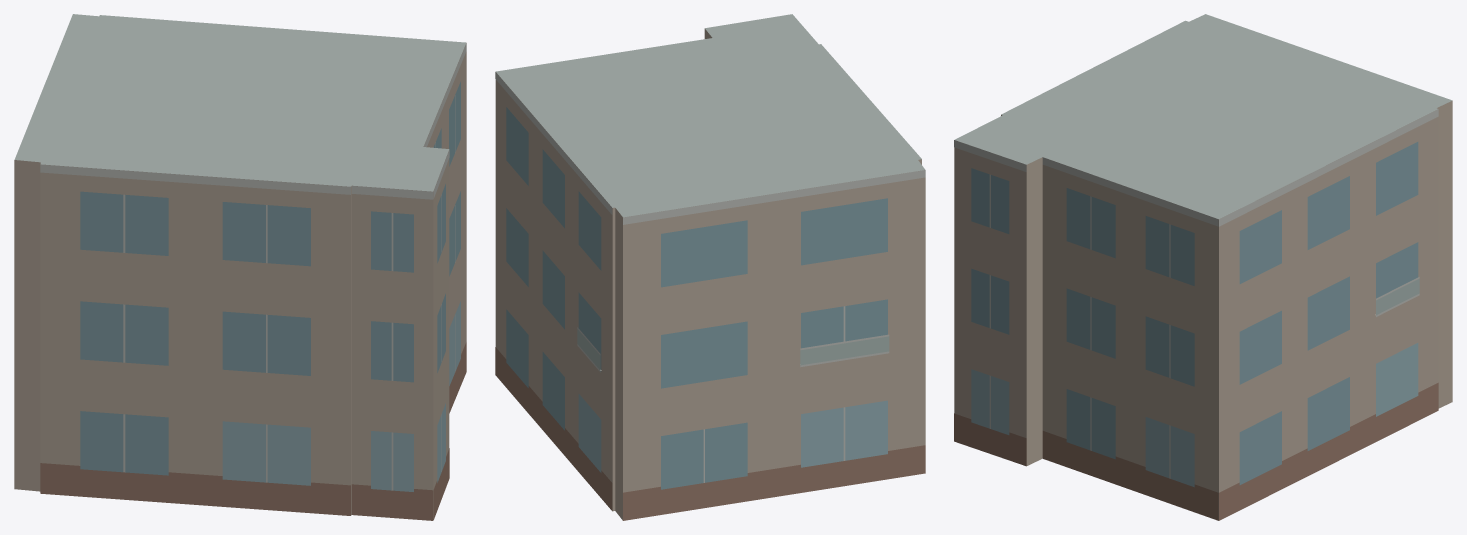
Rendered from survey-upis-32655980.glb.
3 renders of one model, left to right at view 1: azimuth 30°, elevation 25°; view 2: azimuth 150°, elevation 25°; view 3: azimuth 270°, elevation 25°, orthographic. The views are drawn at different scales.
Parts seen in each view (by area): view 1: survey-upis-32655980.tmp; view 2: survey-upis-32655980.tmp; view 3: survey-upis-32655980.tmp.
Part boxes in pixels (x1,y1,x2,y2): survey-upis-32655980.tmp: [14, 14, 466, 520]; survey-upis-32655980.tmp: [495, 14, 925, 520]; survey-upis-32655980.tmp: [954, 14, 1452, 520].
Size of the model in its own units: 14.39 by 9.85 by 14.76.
